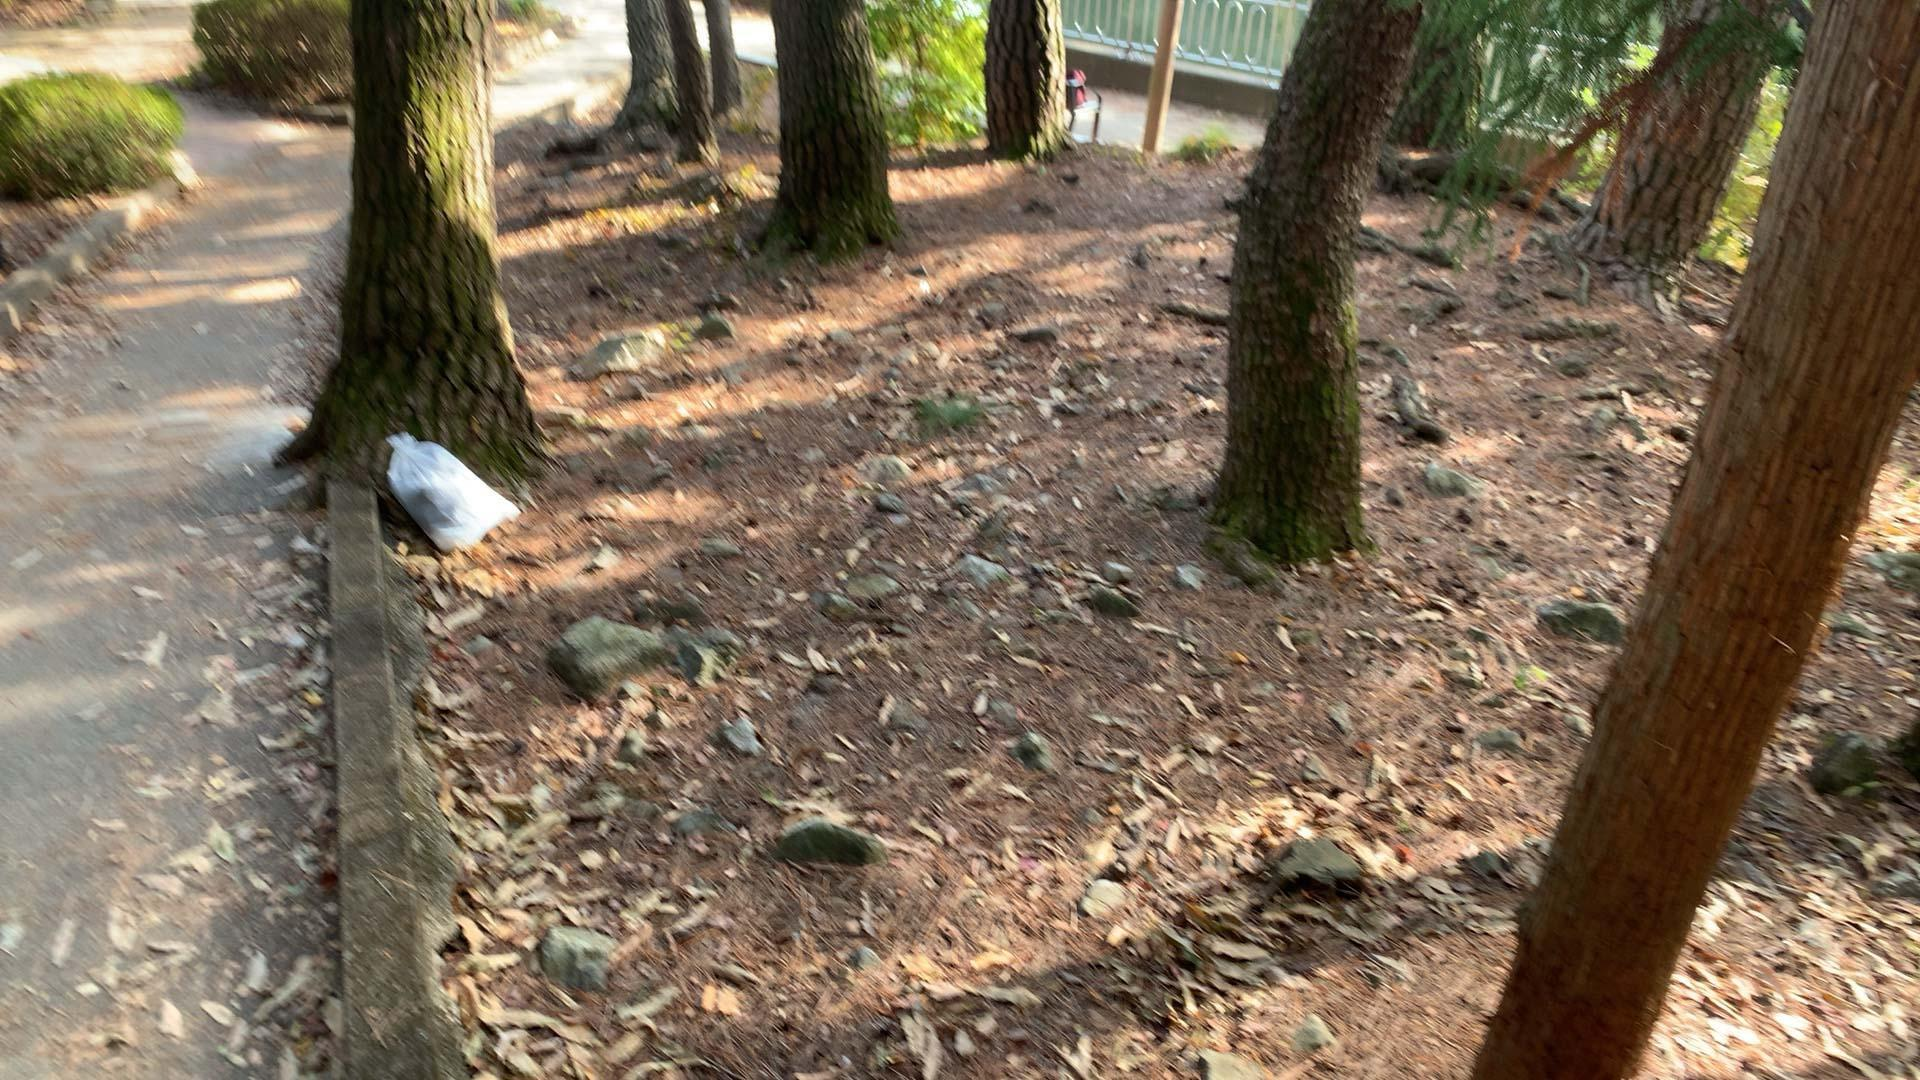white_bag: (378, 425, 530, 560)
